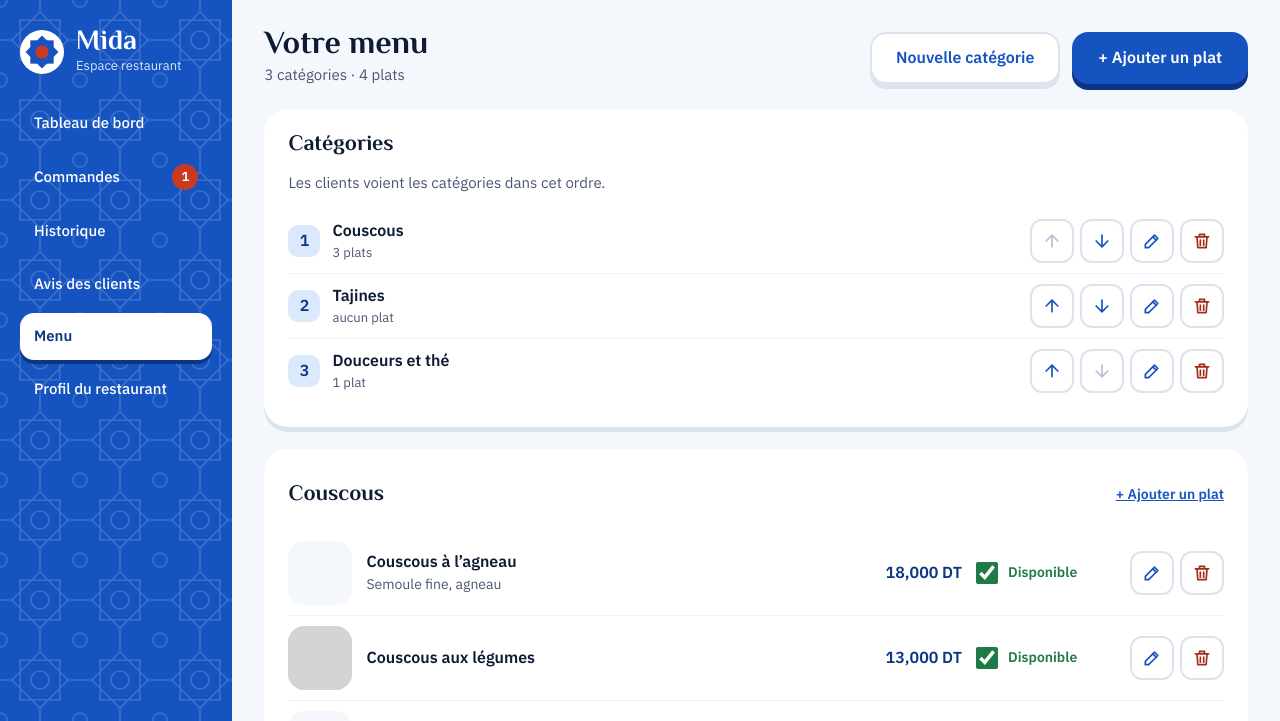
Scenario: menu : catégories (US09) › catégorie vide : supprimée après une simple confirmation
Click the button named "Supprimer Tajines" at [1202, 306], box [1180,284,1224,328]
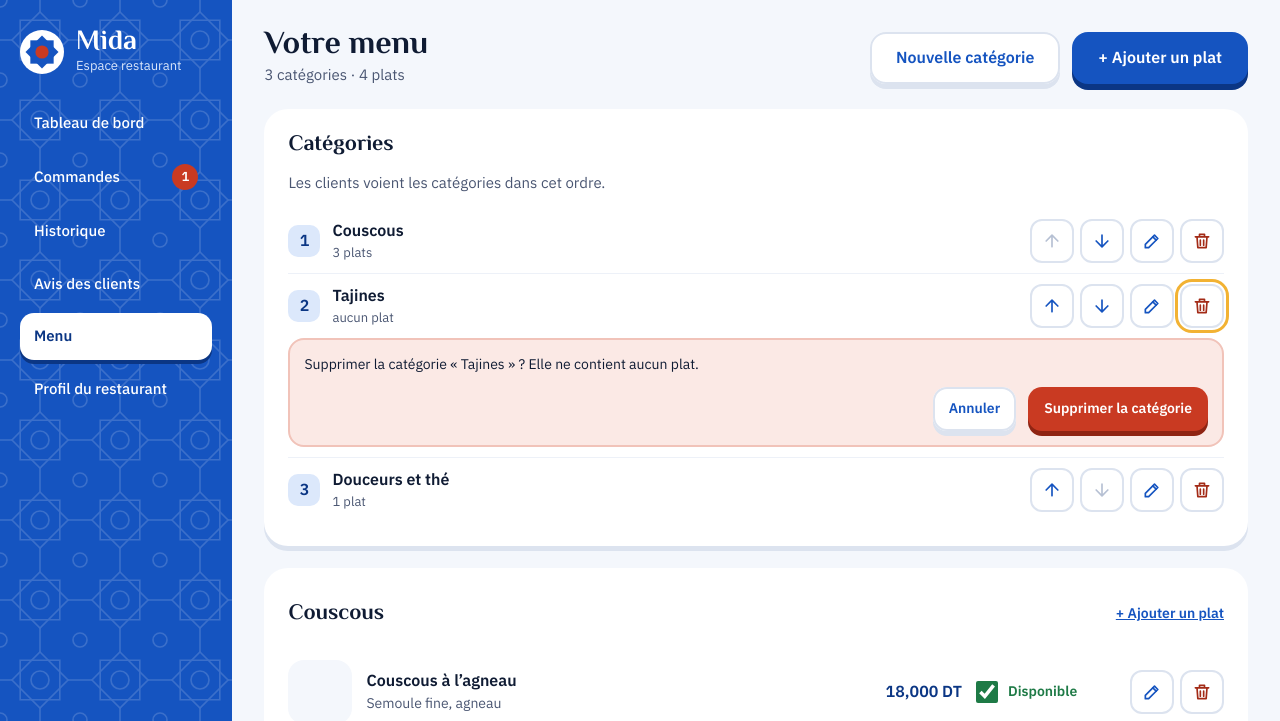
Now the dialog named "Supprimer Tajines ?" shows "Elle ne contient aucun plat.", box [505,354,699,375]
Click the button "Supprimer la catégorie" at [1118, 409], box [1028,387,1208,431]
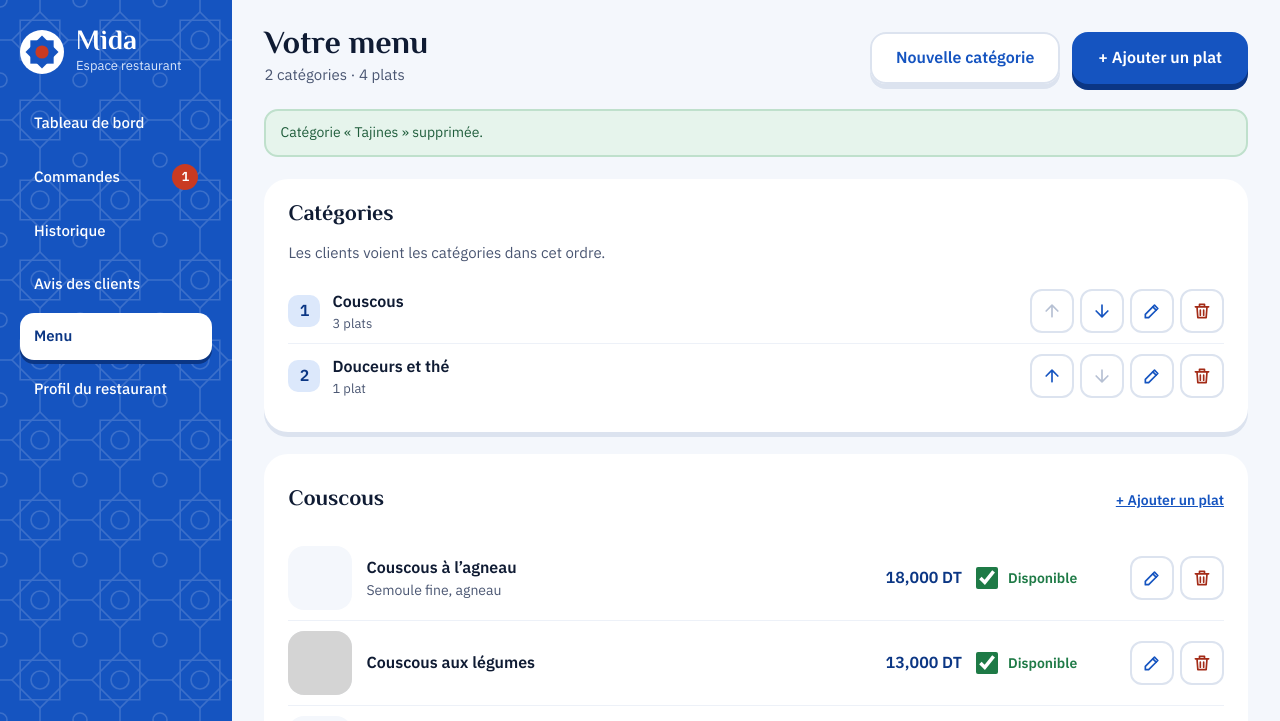
Now the message reads "Catégorie « Tajines » supprimée.", box [280,122,483,143]
